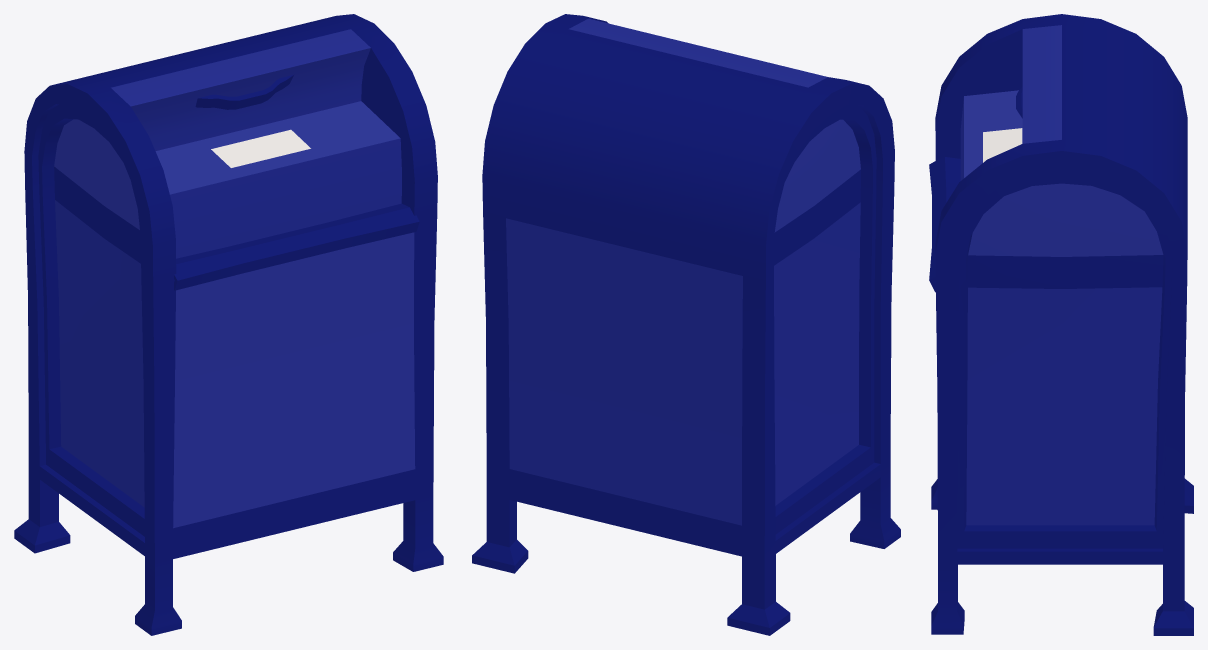
The model's file is MailBox.glb.
3 renders of one model, left to right at view 1: azimuth 30°, elevation 25°; view 2: azimuth 150°, elevation 25°; view 3: azimuth 270°, elevation 25°, orthographic. The views are drawn at different scales.
Visible parts, largest first — view 1: MailBox; view 2: MailBox; view 3: MailBox.
Part boxes in pixels (x1=…): MailBox: x1=14, y1=14, x2=443, y2=635; MailBox: x1=472, y1=14, x2=900, y2=635; MailBox: x1=929, y1=14, x2=1193, y2=635.
Bounding box in the file's own units: 1.19 × 1.88 × 0.933.
Materials: 1 (1 with a texture image).
